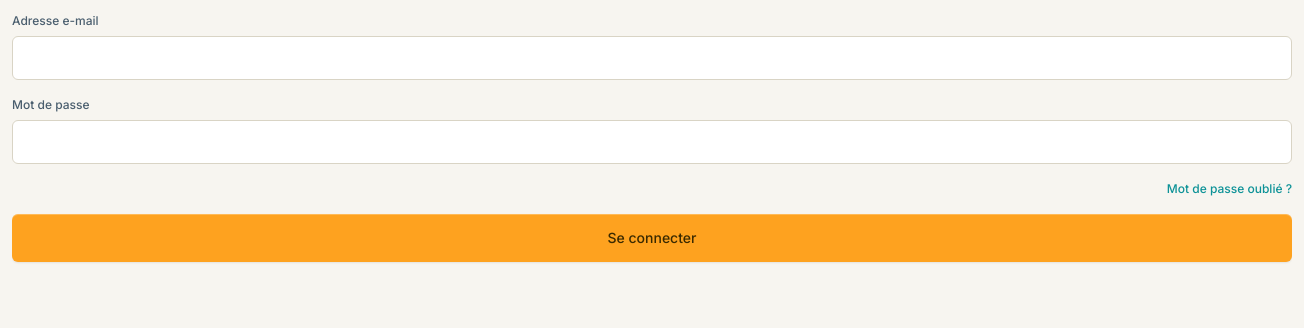
Test: LoginForm › affiche des erreurs de validation et n’appelle pas l’API si le formulaire est invalide
Click the button "Se connecter".
click(652, 238)  # box x1=12 y1=214 x2=1292 y2=262
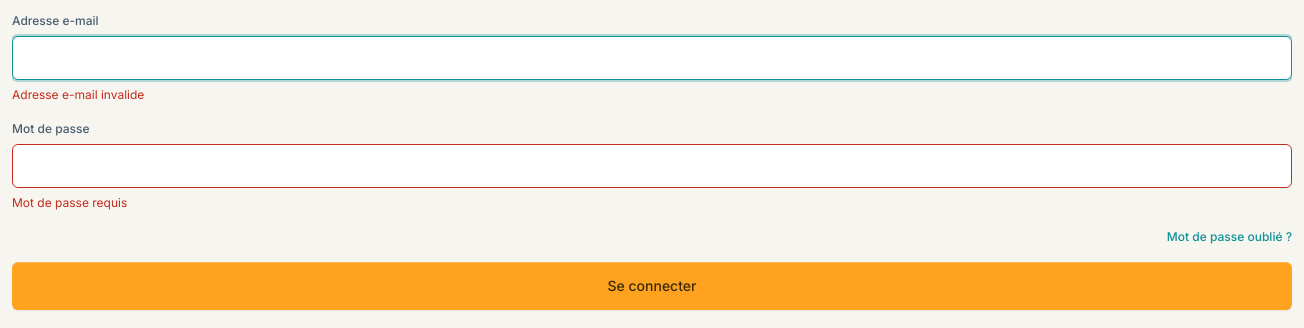
Expected: the text "Adresse e-mail invalide" is shown, x1=12 y1=87 x2=144 y2=102
